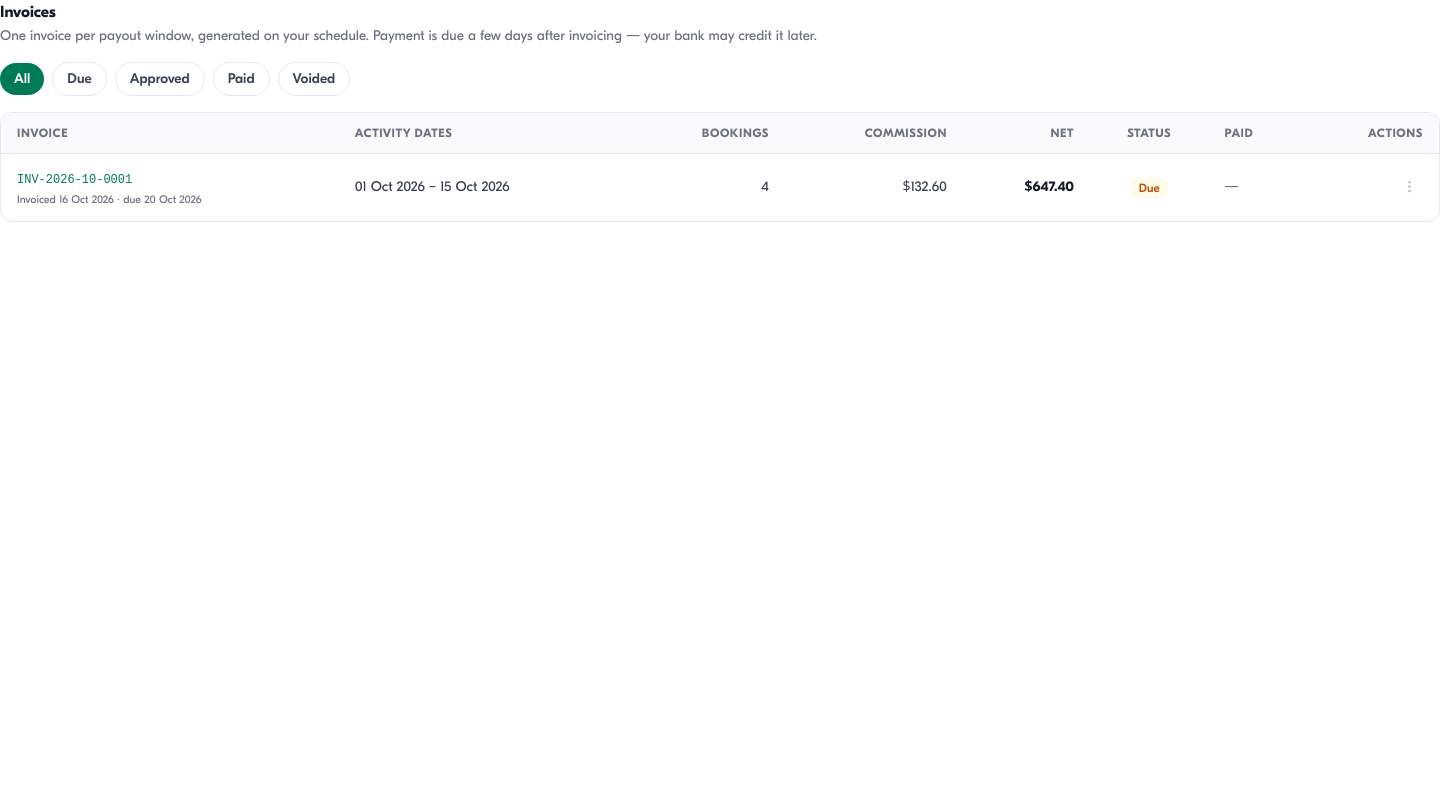
Test: InvoicesTab — the detail drawer › keeps the booking-list download disabled when the invoice has no line items
Step 1. Click the button "INV-2026-10-0001" → point(75, 180), box [17, 172, 132, 188]
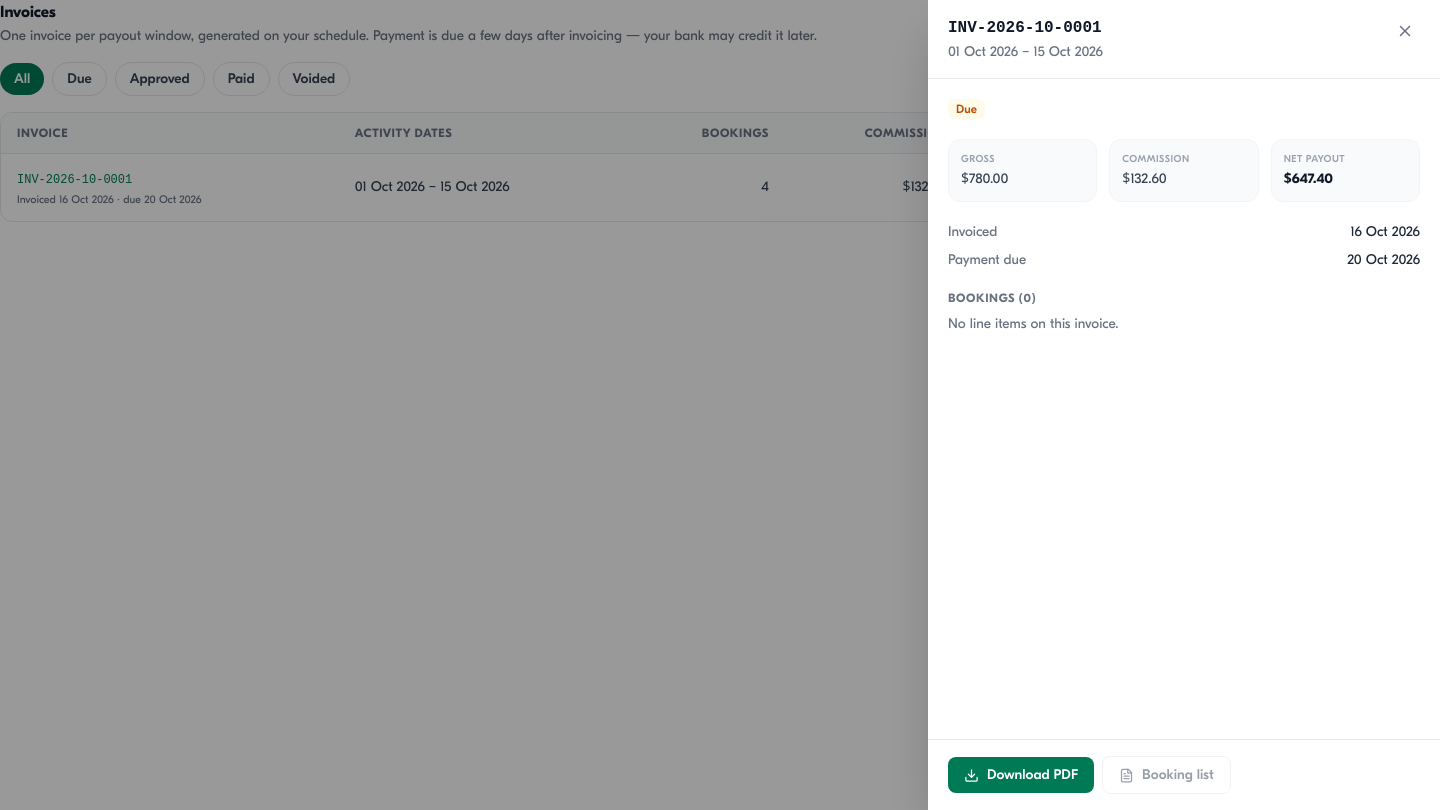
Expected: the button "Booking list" is disabled, [1102, 756, 1231, 794]
